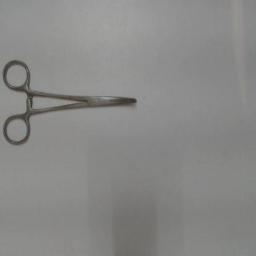Crile Artery Forceps: (0, 56, 140, 146)
